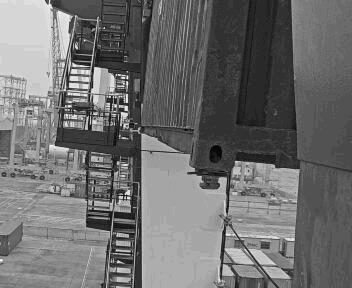twist_lock_1: (162, 161, 203, 193)
